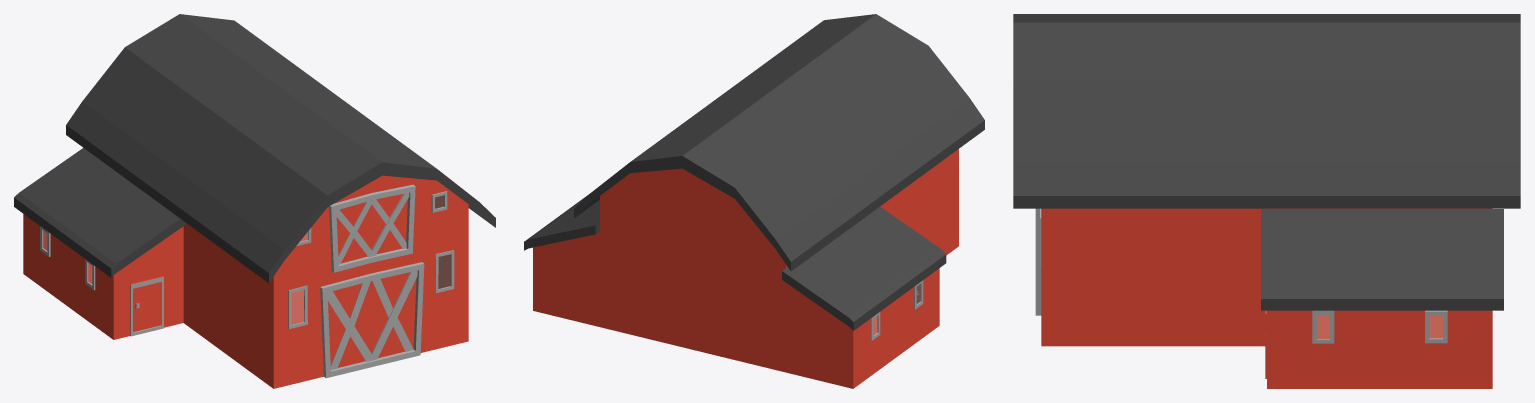
Rendered from ambar1.0.glb.
3 views of the same model, side by side, from view 1: azimuth 30°, elevation 25°; view 2: azimuth 150°, elevation 25°; view 3: azimuth 270°, elevation 25° (orthographic). The views are drawn at different scales.
Parts seen in each view (by area): view 1: Cube; view 2: Cube; view 3: Cube.
Part boxes in pixels (x1=…): Cube: x1=14, y1=14, x2=495, y2=388; Cube: x1=524, y1=14, x2=984, y2=388; Cube: x1=1013, y1=14, x2=1520, y2=388.
Bounding box in the file's own units: 8.02 × 4.7 × 8.18.
